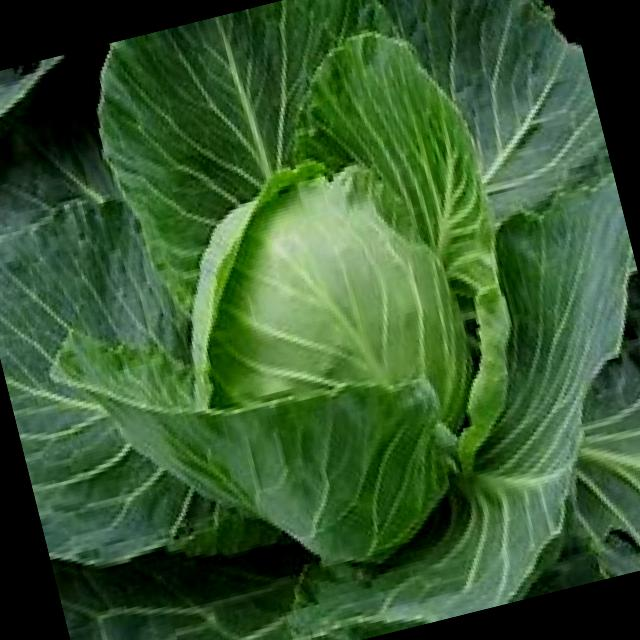cabbage: (133, 121, 514, 532)
